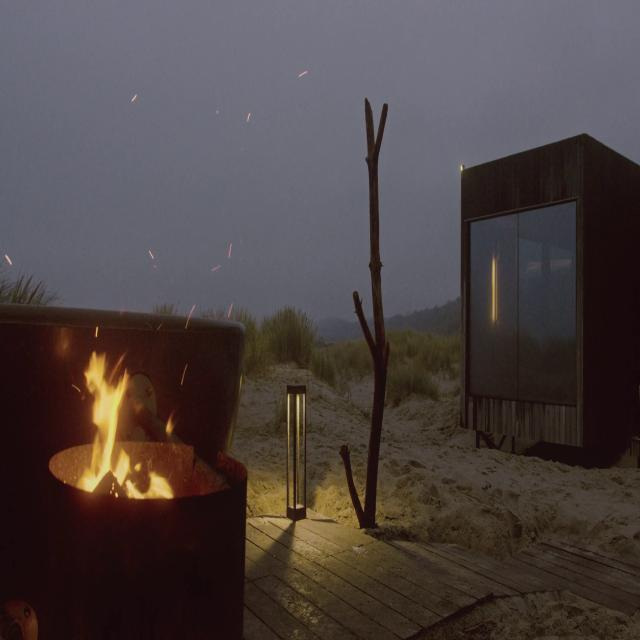Fire: (77, 334, 172, 504)
